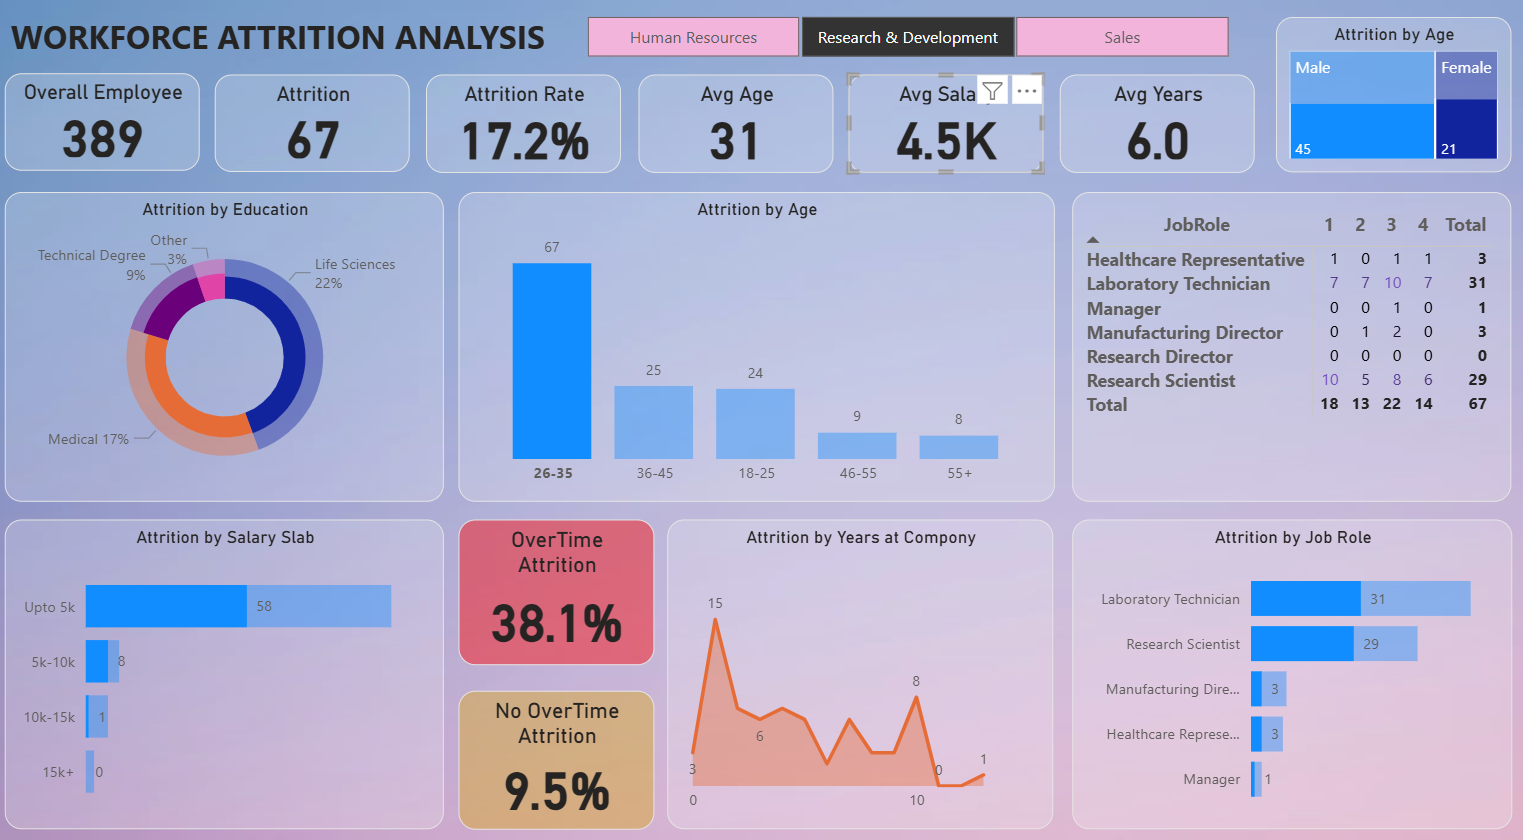

Layout of this report page (visuals, bound fields, positions):
{"tool":"powerbi","page":{"name":"Page 1","canvas":[1280,720],"ordinal":0},"visuals":[{"type":"card","title":"Overall Employee","fields":{"Values":["Count(HR_Analytics.EmpID)"]},"box":[15.8,71.6,161.9,81],"z":0},{"type":"card","title":"Attrition","fields":{"Values":["Sum(HR_Analytics.Attrition Count)"]},"box":[190.1,72.9,161.9,81],"z":1000},{"type":"card","title":"Attrition Rate","fields":{"Values":["HR_Analytics.AttritionRate"]},"box":[365,72.7,161.9,81.2],"z":2000},{"type":"card","title":"Avg Age","fields":{"Values":["Avg(HR_Analytics.Age)"]},"box":[540.6,72.7,161.9,81.2],"z":3000},{"type":"card","title":"Avg Salary","fields":{"Values":["Avg(HR_Analytics.MonthlyIncome)"]},"box":[715,72.7,161.9,81.2],"z":4000},{"type":"card","title":"Avg Years","fields":{"Values":["Avg(HR_Analytics.YearsAtCompany)"]},"box":[890,72.7,161.9,81.2],"z":5000},{"type":"donutChart","title":"Attrition by Education","fields":{"Category":["HR_Analytics.EducationField"],"Y":["Sum(HR_Analytics.Attrition Count)"]},"box":[15.7,170,364.3,257.1],"z":6000},{"type":"columnChart","title":"Attrition by Age","fields":{"Category":["HR_Analytics.AgeGroup"],"Y":["Sum(HR_Analytics.Attrition Count)"]},"box":[391.4,170,494.3,257.1],"z":7000},{"type":"pivotTable","fields":{"Rows":["HR_Analytics.JobRole"],"Columns":["HR_Analytics.JobSatisfaction"],"Values":["Sum(HR_Analytics.Attrition Count)"]},"box":[900.2,170.2,363.6,256.6],"z":8000},{"type":"barChart","title":"Attrition by Salary Slab","fields":{"Category":["HR_Analytics.SalarySlab"],"Y":["Sum(HR_Analytics.Attrition Count)"]},"box":[15.7,441.4,364.3,257.1],"z":9000},{"type":"clusteredBarChart","title":"Attrition by Job Role","fields":{"Category":["HR_Analytics.JobRole"],"Y":["Sum(HR_Analytics.Attrition Count)"]},"box":[900.2,441.9,365,256.6],"z":10000},{"type":"areaChart","title":"Attrition by Years at Compony","fields":{"Category":["HR_Analytics.YearsAtCompany"],"Y":["Sum(HR_Analytics.Attrition Count)"]},"box":[565.1,441.8,320.1,256.7],"z":11000},{"type":"treemap","title":"Attrition by Age","fields":{"Group":["HR_Analytics.Gender"],"Values":["Sum(HR_Analytics.Attrition Count)"]},"box":[1069,24.7,194.9,129],"z":12000},{"type":"slicer","fields":{"Values":["HR_Analytics.Department"]},"box":[472.9,17.1,581.4,47.1],"z":13000},{"type":"textbox","box":[15.7,17.1,464.3,71.4],"z":14000},{"type":"card","title":"No OverTime Attrition","fields":{"Values":["HR_Analytics.Attrition Rate (OverTime No)"]},"box":[391.5,583.1,162.3,115.4],"z":15000},{"type":"card","title":"OverTime  Attrition","fields":{"Values":["HR_Analytics.Attrition Rate (OverTime Yes)"]},"box":[391.5,441.5,162.3,120.8],"z":16000}]}

Visuals, with their boxes in screenshot pixels (x1, y1, x2, y2), scaled from the page's 1280x720 canvas onto the 1523x840 screenshot:
"Overall Employee" card: bbox=[19, 84, 211, 178]
"Attrition" card: bbox=[226, 85, 419, 180]
"Attrition Rate" card: bbox=[434, 85, 627, 180]
"Avg Age" card: bbox=[643, 85, 836, 180]
"Avg Salary" card: bbox=[851, 85, 1043, 180]
"Avg Years" card: bbox=[1059, 85, 1252, 180]
"Attrition by Education" donutChart: bbox=[19, 198, 452, 498]
"Attrition by Age" columnChart: bbox=[466, 198, 1054, 498]
pivotTable - HR_Analytics.JobRole x HR_Analytics.JobSatisfaction: bbox=[1071, 199, 1504, 498]
"Attrition by Salary Slab" barChart: bbox=[19, 515, 452, 815]
"Attrition by Job Role" clusteredBarChart: bbox=[1071, 516, 1505, 815]
"Attrition by Years at Compony" areaChart: bbox=[672, 515, 1053, 815]
"Attrition by Age" treemap: bbox=[1272, 29, 1504, 179]
slicer - HR_Analytics.Department: bbox=[563, 20, 1254, 75]
textbox: bbox=[19, 20, 571, 103]
"No OverTime Attrition" card: bbox=[466, 680, 659, 815]
"OverTime  Attrition" card: bbox=[466, 515, 659, 656]
